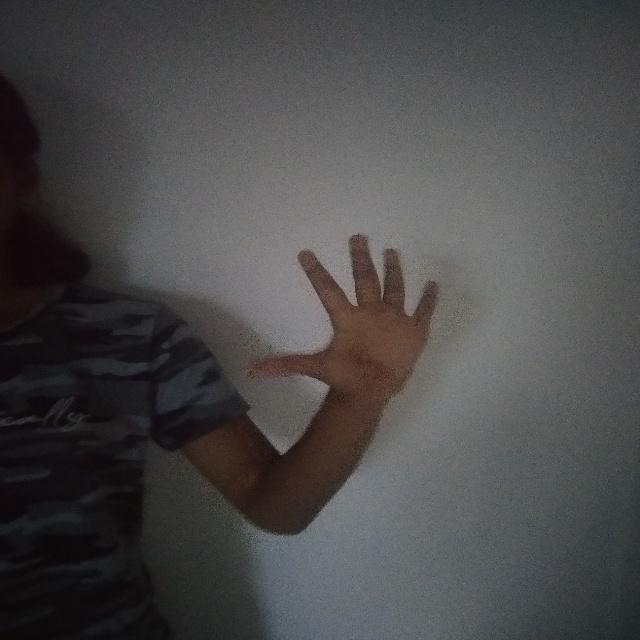Moutza: (240, 223, 452, 428)
